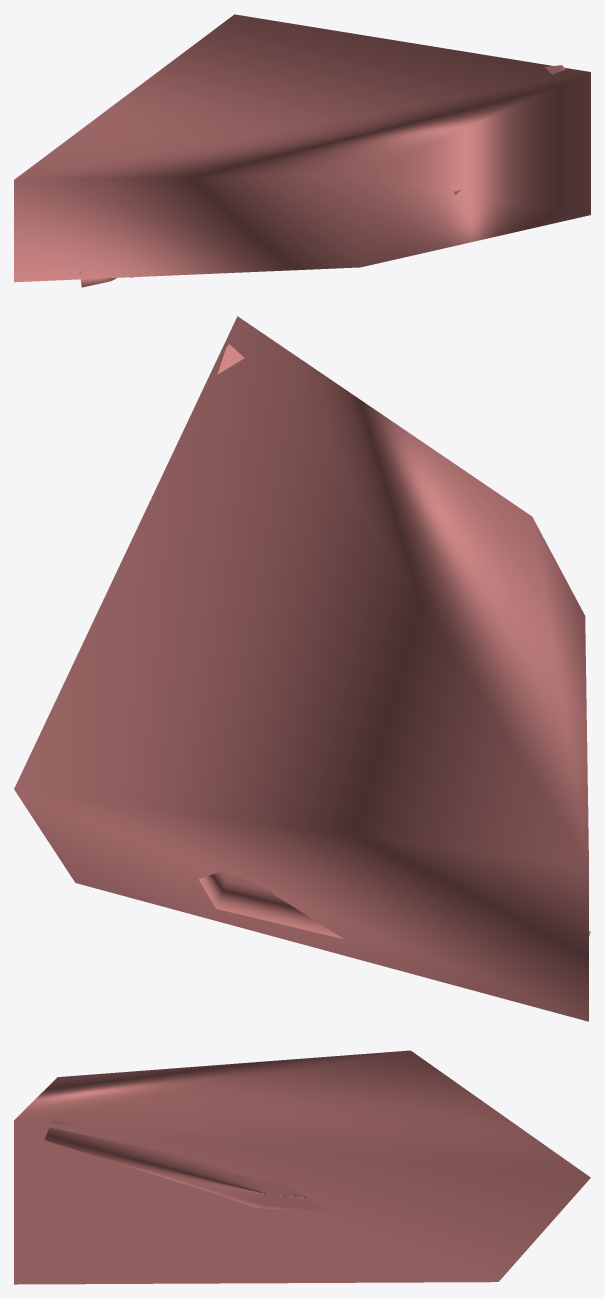
Rendered from pinger_plate_mid_right_scaled.dae.
3 views of the same model, one above another, from view 1: azimuth 30°, elevation 25°; view 2: azimuth 150°, elevation 25°; view 3: azimuth 270°, elevation 25° (orthographic). The views are drawn at different scales.
Parts seen in each view (by area): view 1: pinger_plate_mid_right_scaled; view 2: pinger_plate_mid_right_scaled; view 3: pinger_plate_mid_right_scaled.
Boxes of the visible parts, x1,y1,x2,y2 form: pinger_plate_mid_right_scaled: (14, 14, 590, 287); pinger_plate_mid_right_scaled: (14, 316, 590, 1021); pinger_plate_mid_right_scaled: (14, 1050, 590, 1284).
Size of the model in its own units: 1.18 by 1.27 by 0.6641.
